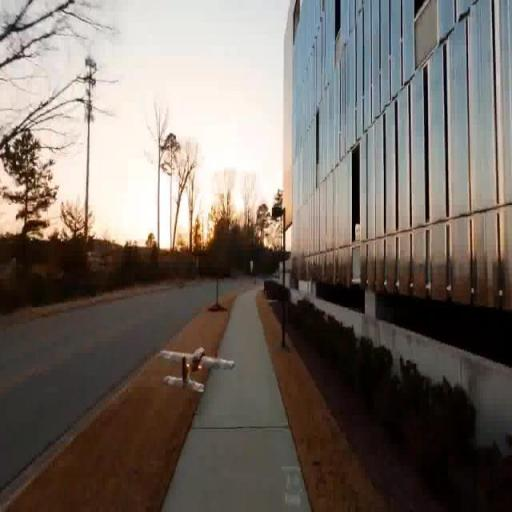uav: (158, 336, 238, 404)
